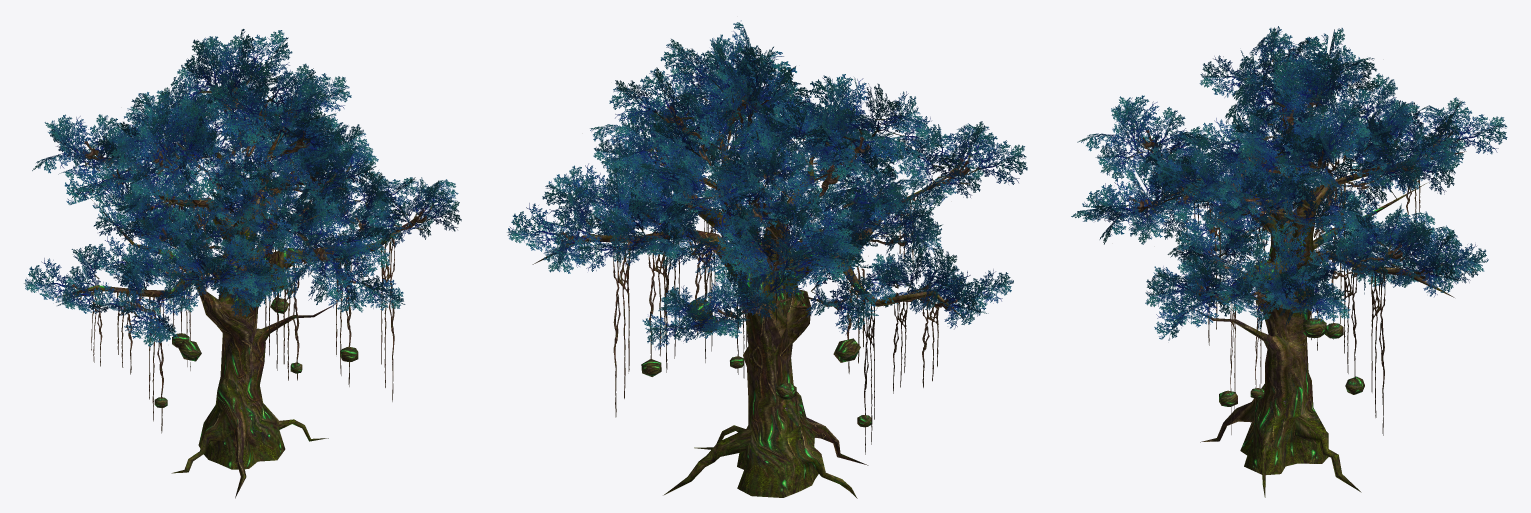
The model's file is WFGK_tree_01.FBX.
3 views of the same model, side by side, from view 1: azimuth 30°, elevation 25°; view 2: azimuth 150°, elevation 25°; view 3: azimuth 270°, elevation 25° (orthographic). The views are drawn at different scales.
Parts seen in each view (by area): view 1: WFGK_tree_01; view 2: WFGK_tree_01; view 3: WFGK_tree_01.
Part boxes in pixels (x1,y1,x2,y2): WFGK_tree_01: (24,29,461,498); WFGK_tree_01: (507,20,1027,498); WFGK_tree_01: (1071,26,1507,497).
Bounding box in the file's own units: 12356 × 12323 × 11421.
